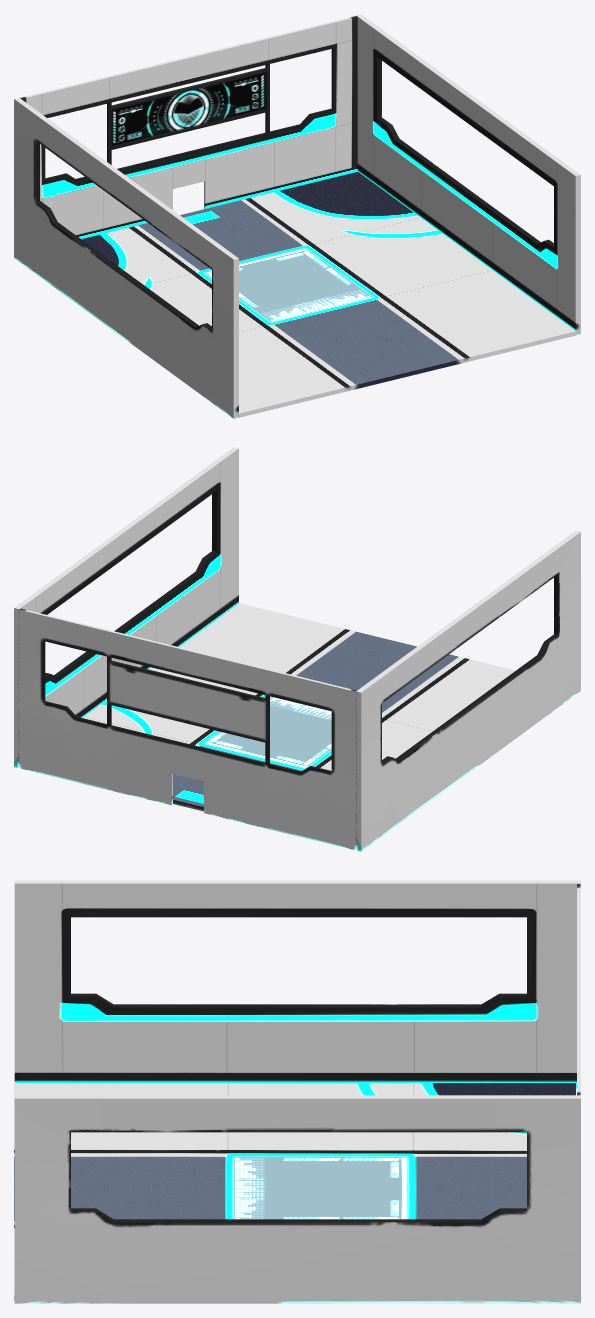
Rendered from main.fbx.
3 renders of one model, top to bottom at view 1: azimuth 30°, elevation 25°; view 2: azimuth 150°, elevation 25°; view 3: azimuth 270°, elevation 25°, orthographic. The views are drawn at different scales.
Parts seen in each view (by area): view 1: low; view 2: low; view 3: low.
Part boxes in pixels (x1=…): low: x1=14, y1=14, x2=580, y2=418; low: x1=14, y1=447, x2=580, y2=851; low: x1=14, y1=880, x2=580, y2=1303.
Bounding box in the file's own units: 206 × 90 × 226.
